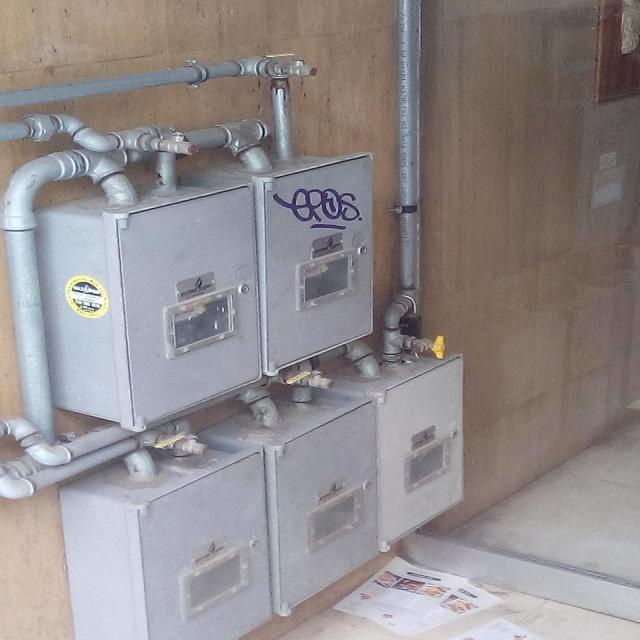nonspitting: (272, 185, 368, 230)
